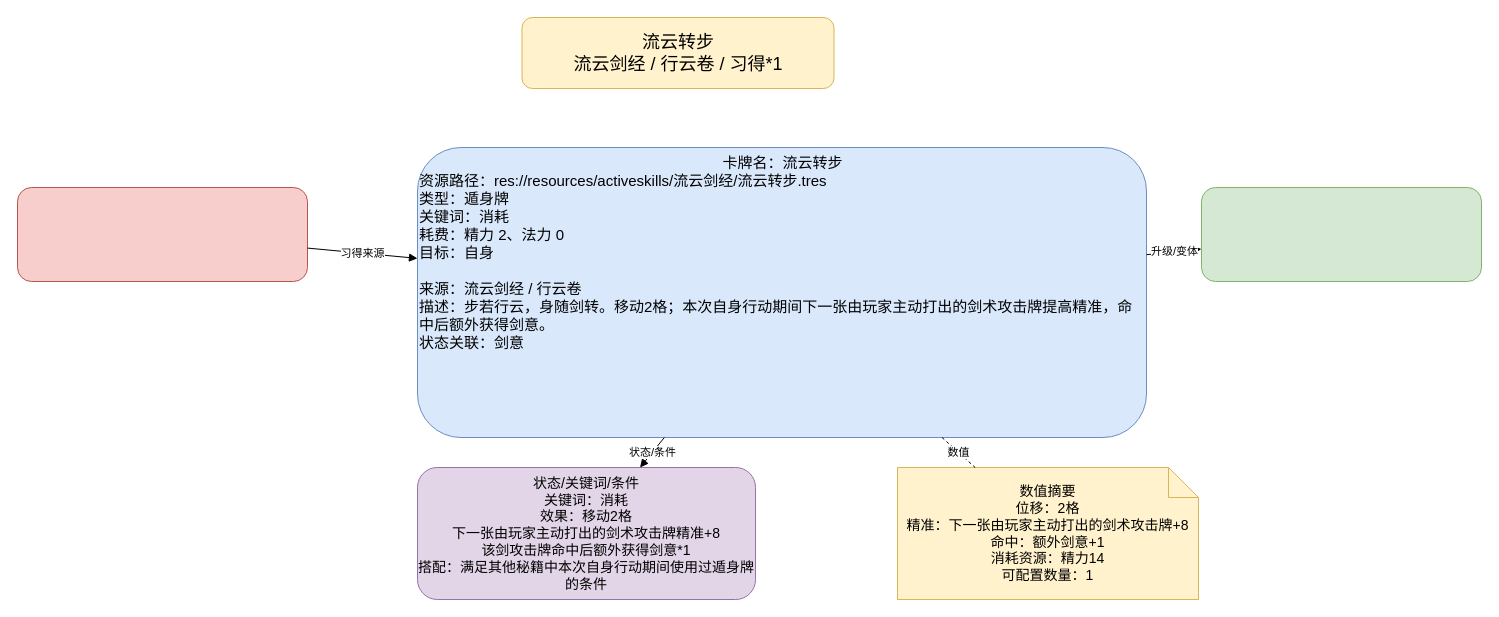
Image size: 1499x617. Some labels were removed from this diagram. Each missing label, with the box of its shape:
习得来源 来源秘籍：流云剑经 来源卷：行云卷 习得数量：1: (16, 186, 308, 282)
升级/变体预留 同系：流云剑经 定位：移动后提高下一张由玩家主动打出的剑术攻击牌的精准: (1200, 186, 1482, 282)
